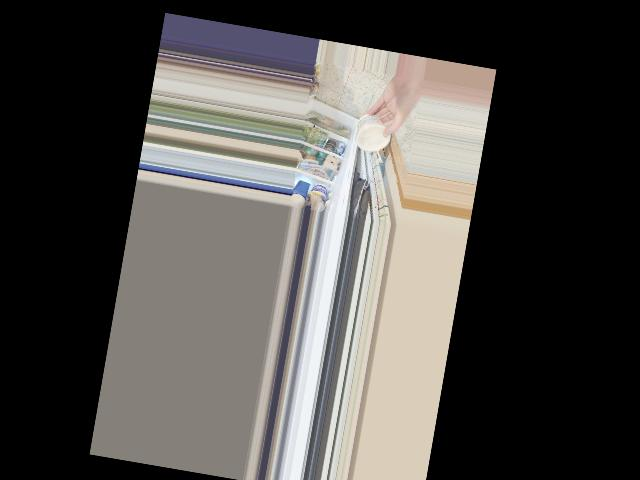cotage: (355, 114, 390, 153)
